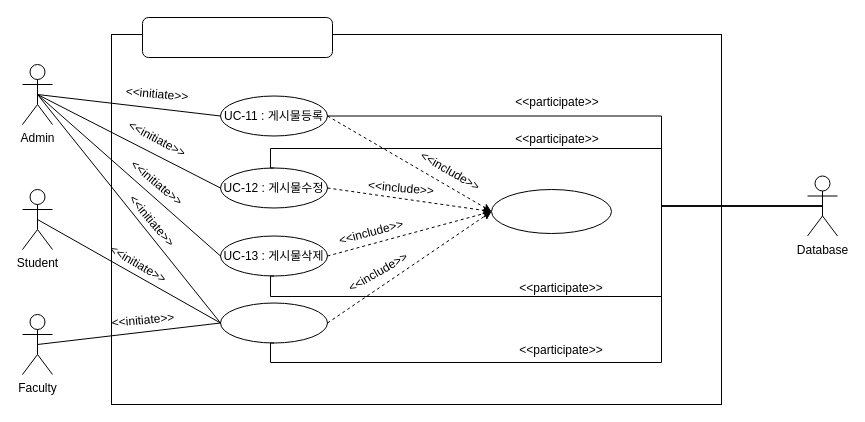
Some shapes in this 865 by 422 pixel diagram are drawn without their labels. The centre of each missing label's shape, as x and y in pixels:
UC-1 : Login: point (551, 211)
UC-14 : 게시물조회: point (274, 322)
공지사항 게시물 Manager: point (237, 37)
